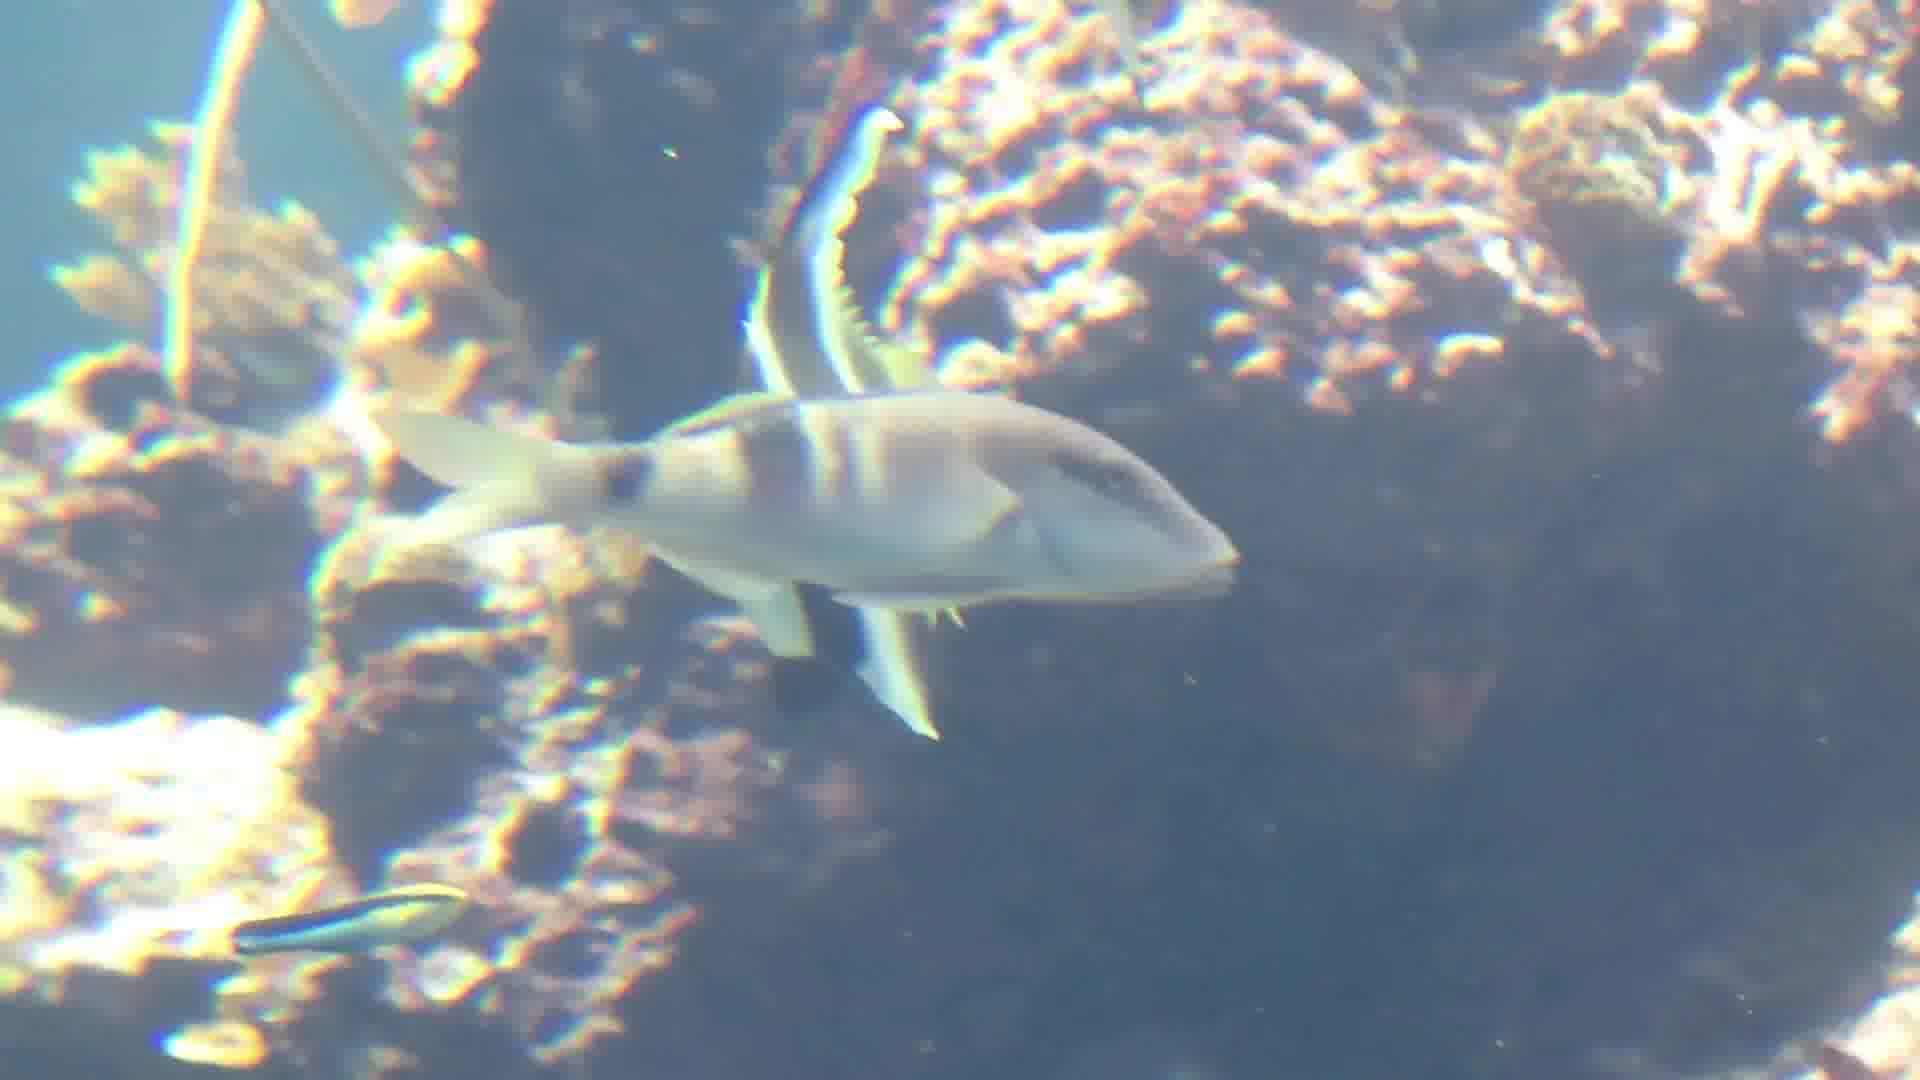Heniochus chrysostomus: (644, 117, 1055, 757)
